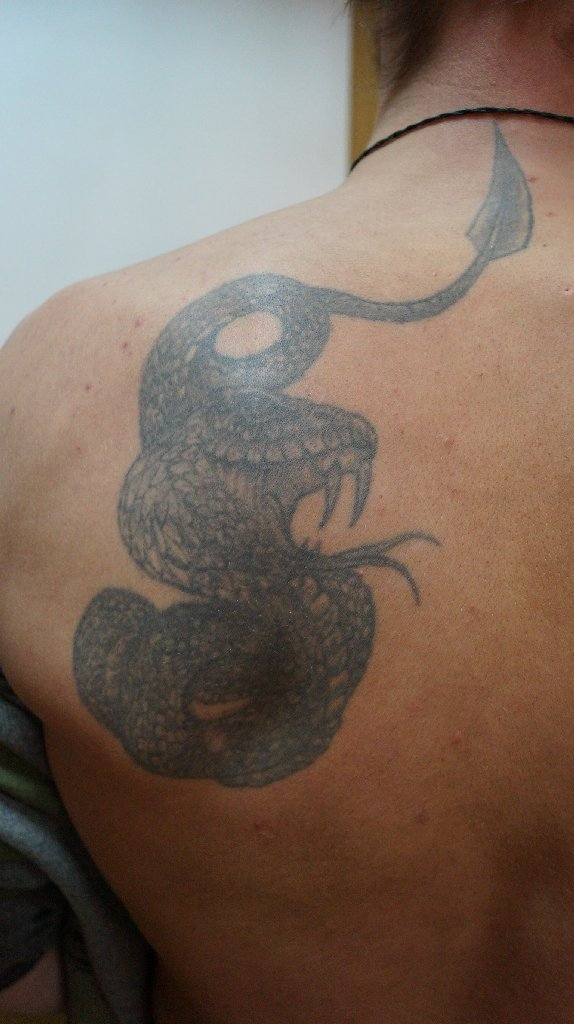tatu7_zmeya: (84, 207, 453, 779)
